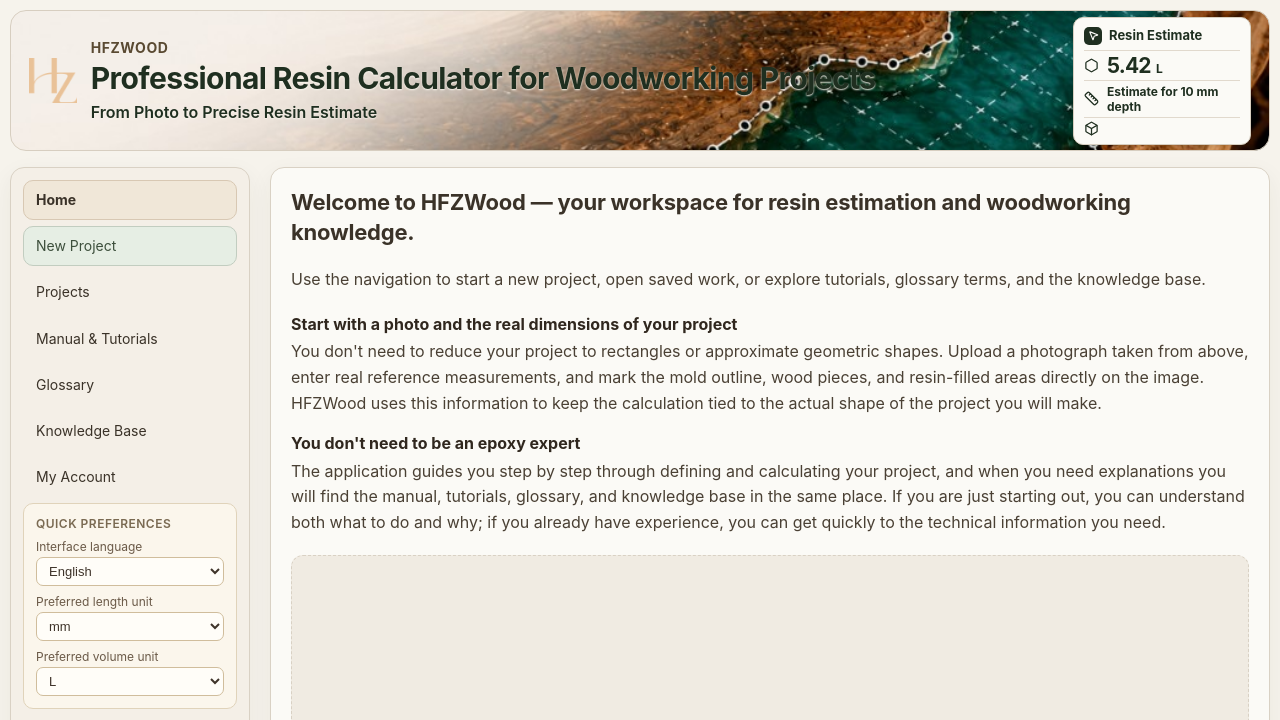
Test: Workspace navigation localization › updates workspace navigation immediately when the language changes
Expected: the link "New Project" is shown, [23,226,237,266]
Expected: the link "Projects" is shown, [36,283,90,300]
Select "Français" in the dropdown labelled "Interface language": (130, 572) [36,557,224,586]
(page scrolled)
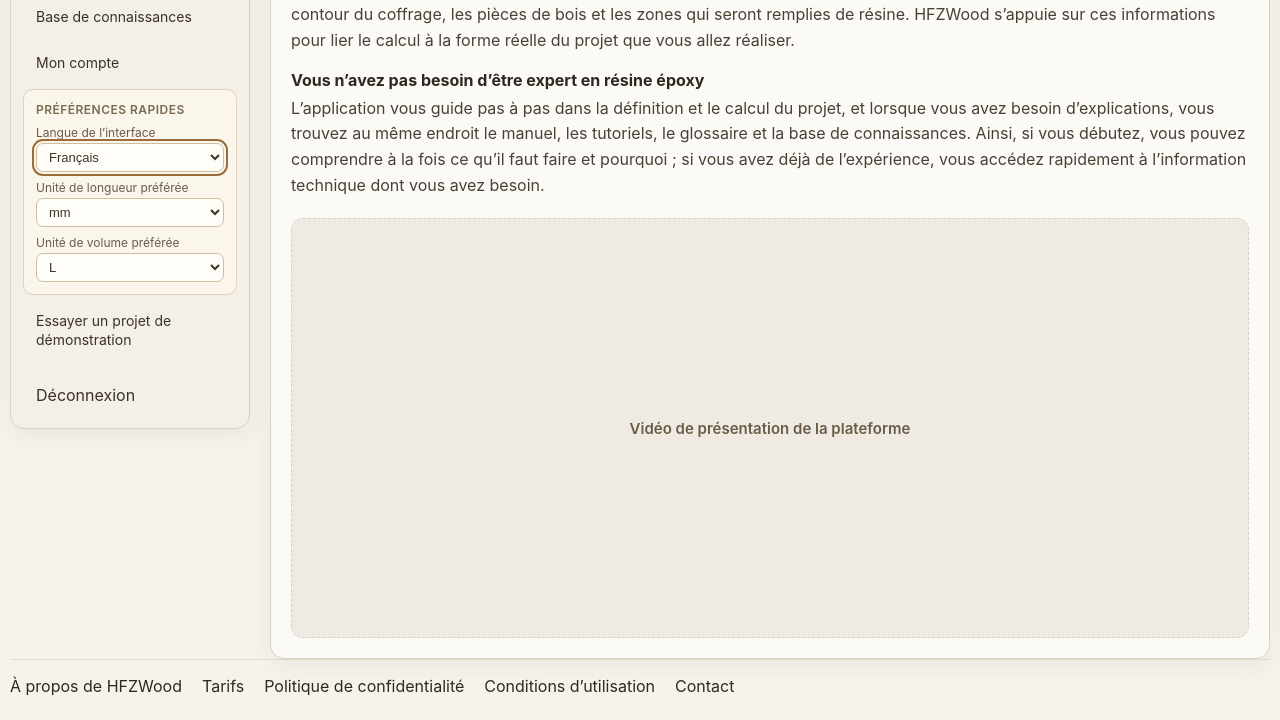
Expected: the link "Base de connaissances" is shown, [36,8,192,25]
Expected: the link "Mon compte" is shown, [36,54,119,71]
Expected: the link "Essayer un projet de démonstration" is shown, [36,312,171,348]
